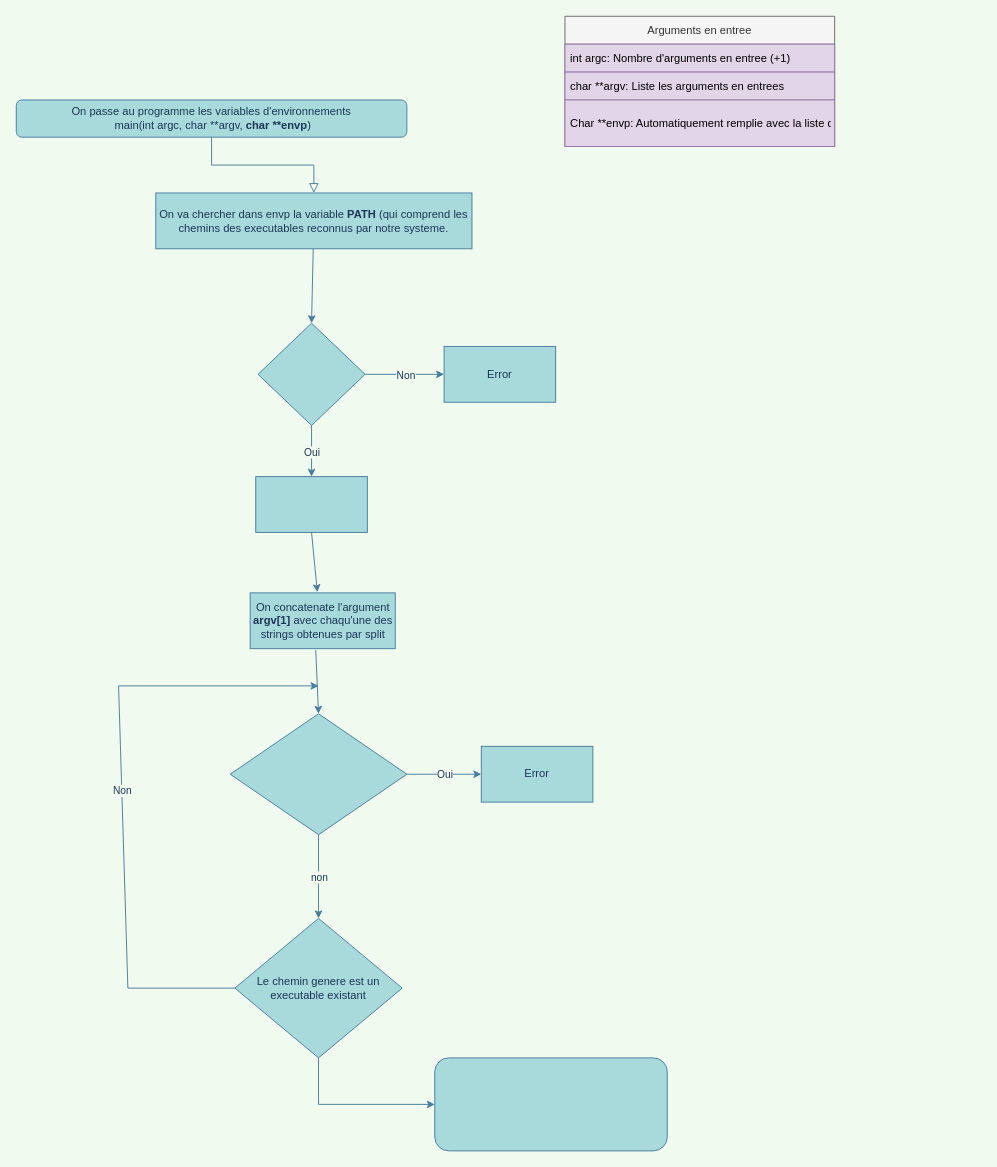
Image size: 997x1167. Some labels were removed from this diagram. Each missing label, with the centre of its shape:
"Fin de parsing, on renvoie cette string" goes at pixel 550 1104.
"On atteint la fin de ce tableau genere" goes at pixel 318 774.
"On split la string PATH avec le caractere de separation ':'" goes at pixel 311 504.
"PATH est trouvee?" goes at pixel 311 373.
